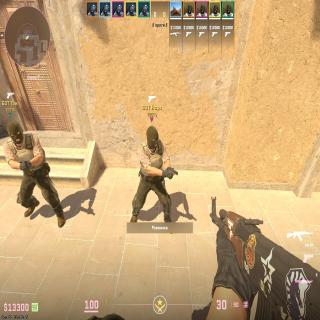T-Body: (2, 122, 50, 214), (138, 125, 172, 221)
T-Head: (6, 122, 23, 145), (146, 126, 159, 149)
